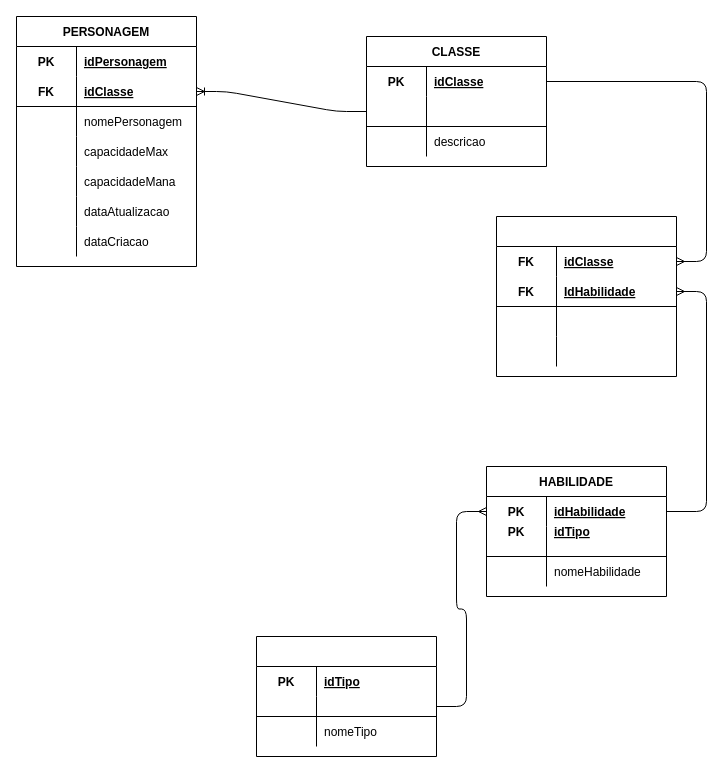
Some shapes in this 723 by 773 pixel diagram are drawn without their labels. Each missing label, with the box of its shape:
CLASSE / HABILIDADE: (496, 216, 676, 376)
TIPOHABILIDADE: (256, 636, 436, 756)
